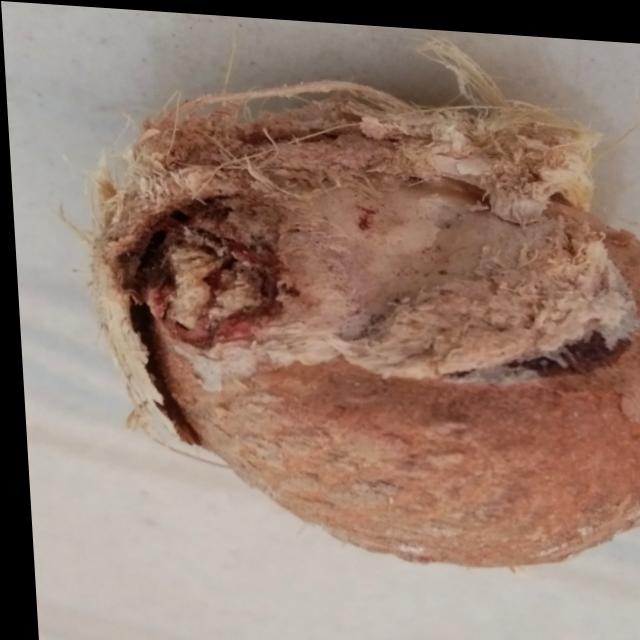phatora: (87, 86, 640, 580)
